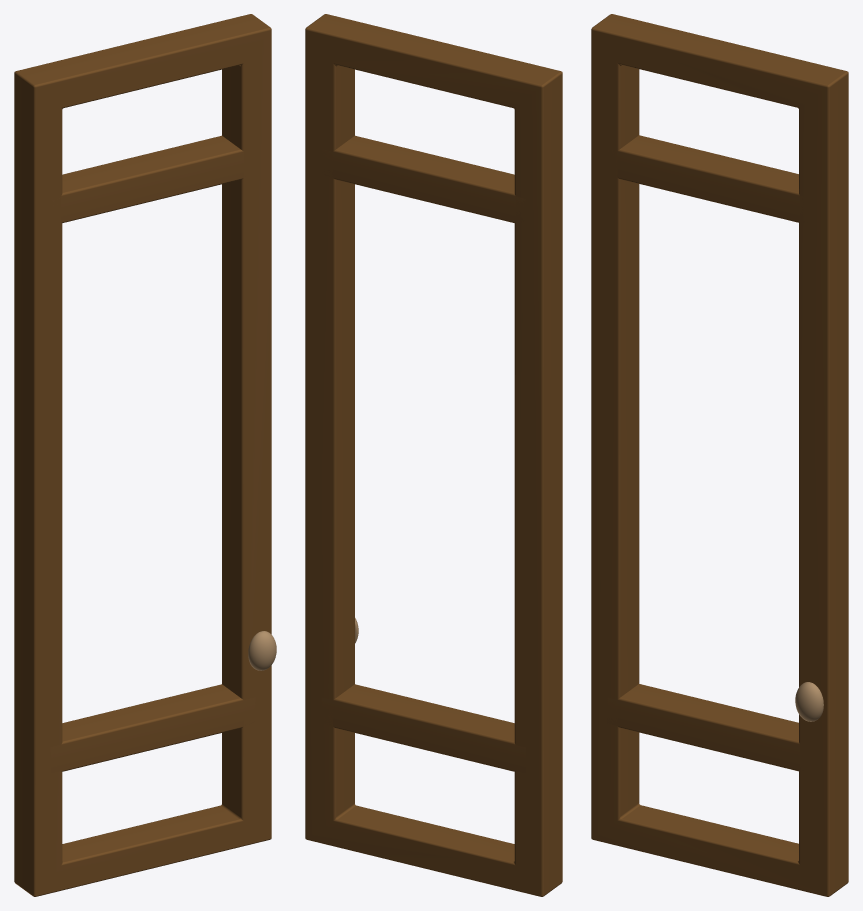
Rendered from SM_Building_WindowsFrame_01_Right.fbx.
The picture shows the model from 3 angles, left to right: view 1: azimuth 30°, elevation 25°; view 2: azimuth 150°, elevation 25°; view 3: azimuth 330°, elevation 25°; orthographic projection.
Parts seen in each view (by area): view 1: Cube.012, Sphere; view 2: Cube.012; view 3: Cube.012, Sphere.
Part boxes in pixels (<box>): Cube.012: <box>14,14,271,896</box>; Sphere: <box>248,631,276,670</box>; Cube.012: <box>305,14,562,896</box>; Cube.012: <box>591,14,848,896</box>; Sphere: <box>795,682,823,721</box>.
Bounding box in the file's own units: 59.67 × 194 × 13.41.
